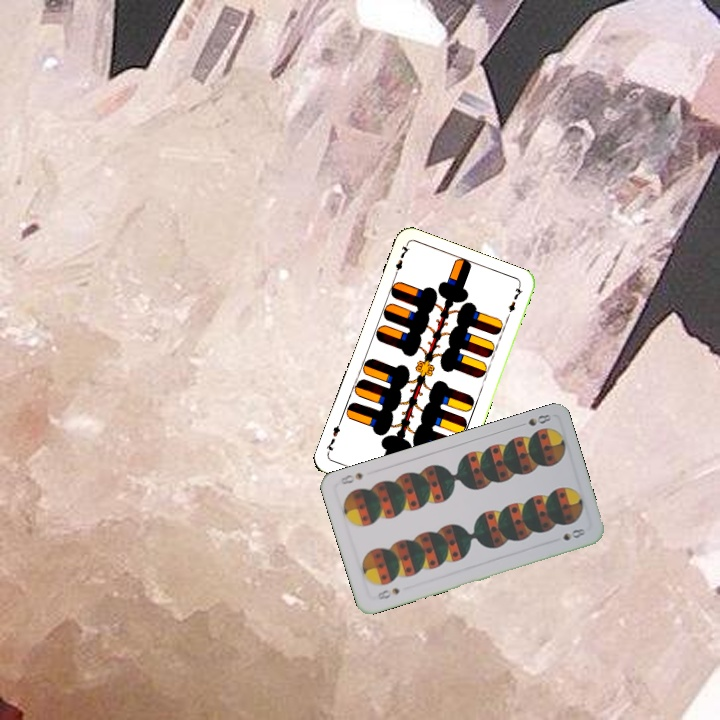E7: (390, 241, 411, 280)
S8: (514, 410, 554, 430), (373, 584, 402, 602)
